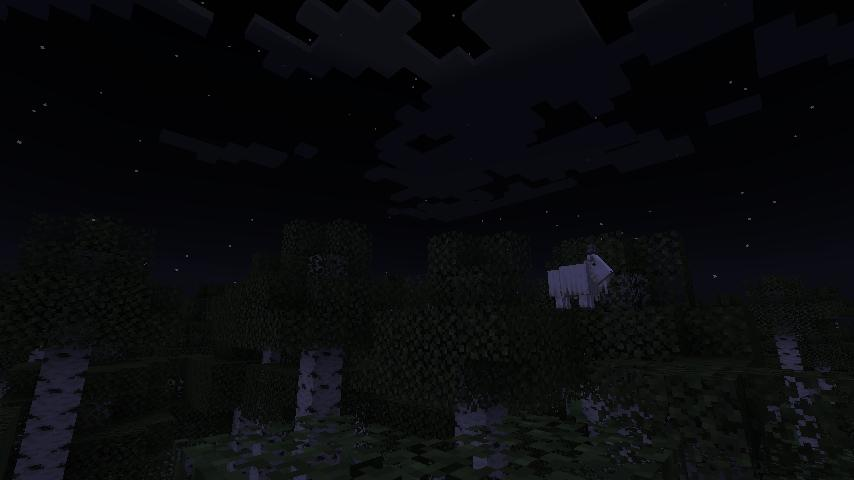goat: (548, 245, 614, 312)
